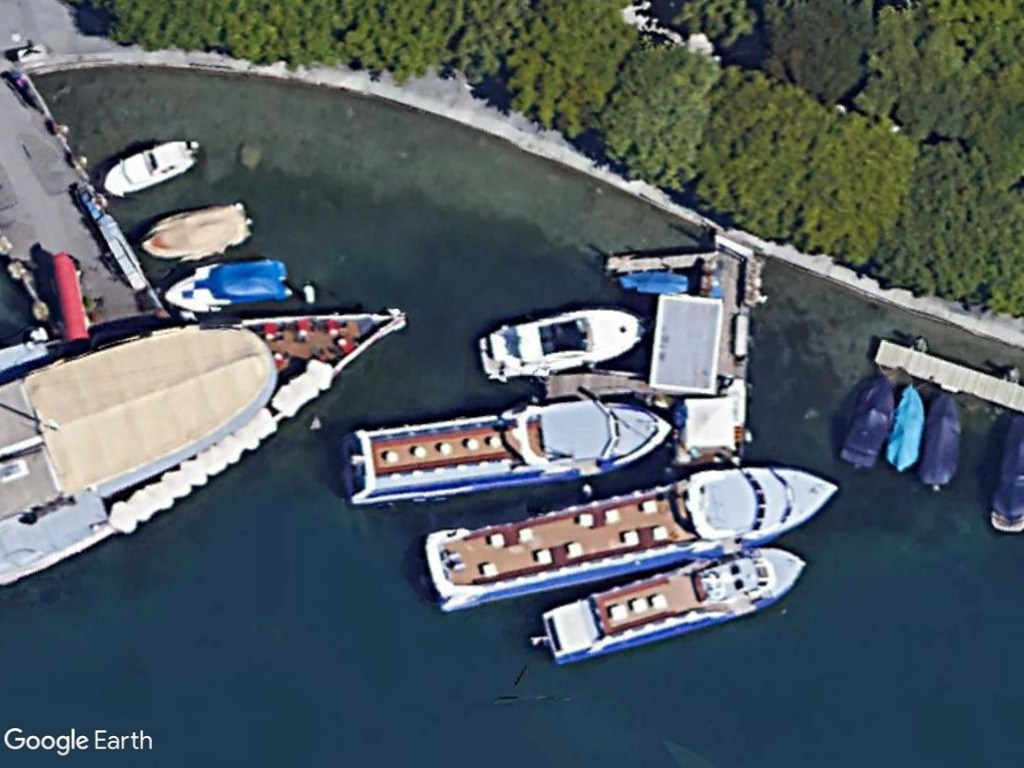boat: (416, 460, 843, 611), (340, 399, 671, 509), (536, 541, 808, 673), (477, 303, 645, 384), (138, 199, 248, 264), (161, 258, 290, 313), (102, 135, 196, 200)
car: (884, 382, 927, 475)
